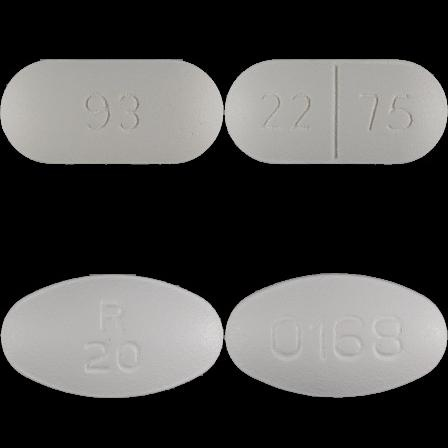63187-327: (0, 0, 224, 224)
